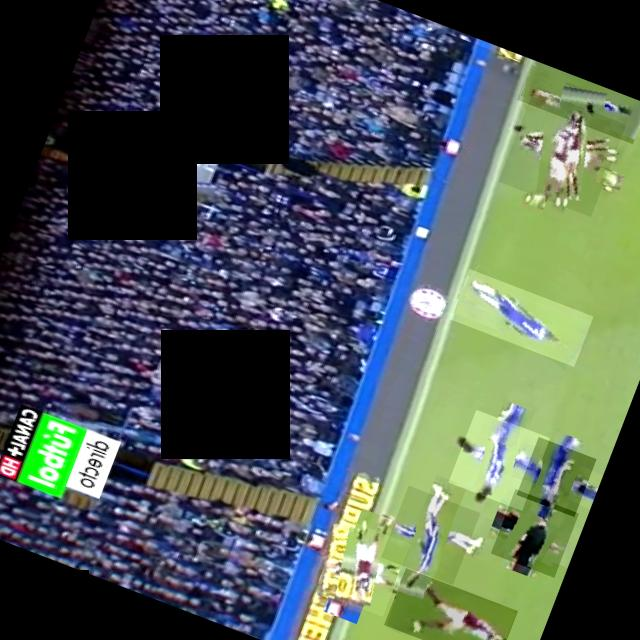ball: (594, 165, 626, 190)
referee: (491, 488, 579, 577), (432, 22, 528, 62)
soccer-player: (498, 88, 626, 216), (449, 268, 594, 366), (517, 58, 640, 143), (309, 515, 411, 616), (448, 409, 550, 510), (382, 485, 481, 584), (384, 567, 518, 640), (516, 436, 596, 516)
